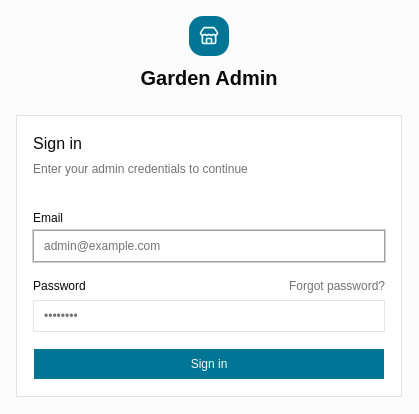
LoginPage › shows loading state while submitting
Type "a@b.com" into the field labelled "Email". click: x=209, y=246
box: [33,230,385,262]
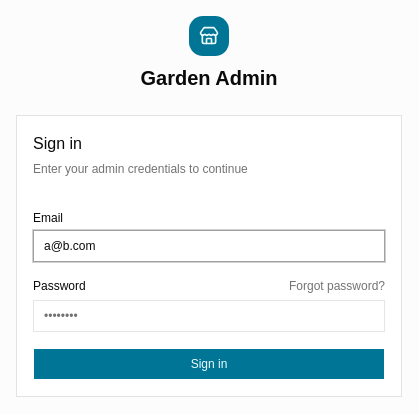
Type "password" into the password field labelled "Password". click: x=209, y=316
box: [33,300,385,332]
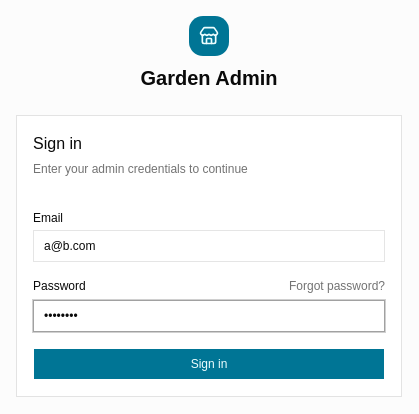
Click the button "Sign in". click: x=209, y=364
box: [33,348,385,380]
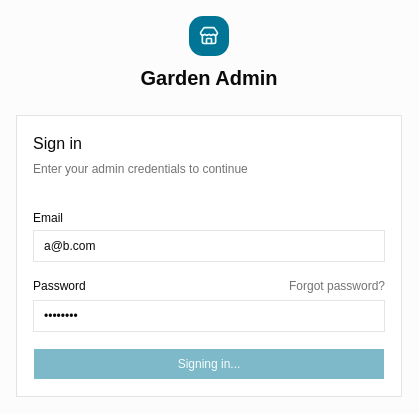
expect the button "Signing in..." is disabled: met, box [33,348,385,380]
